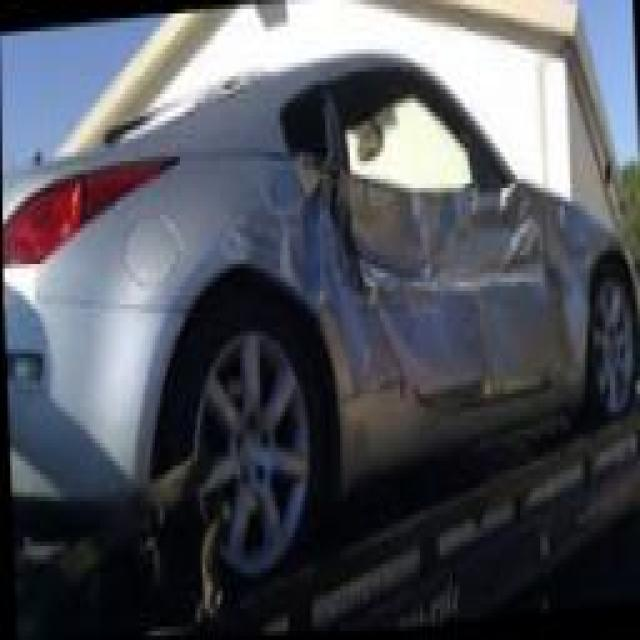Door: (330, 59, 559, 386)
Fender: (198, 146, 396, 386)
